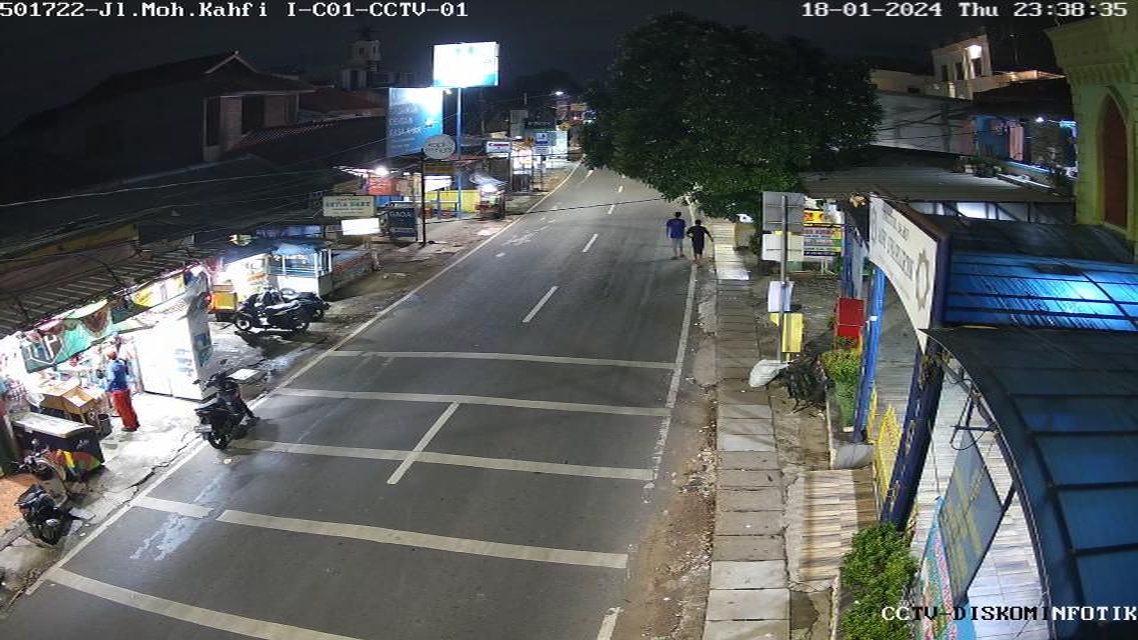Gerobak: (3, 285, 150, 433), (268, 232, 347, 302), (208, 253, 277, 326), (477, 182, 510, 227)
